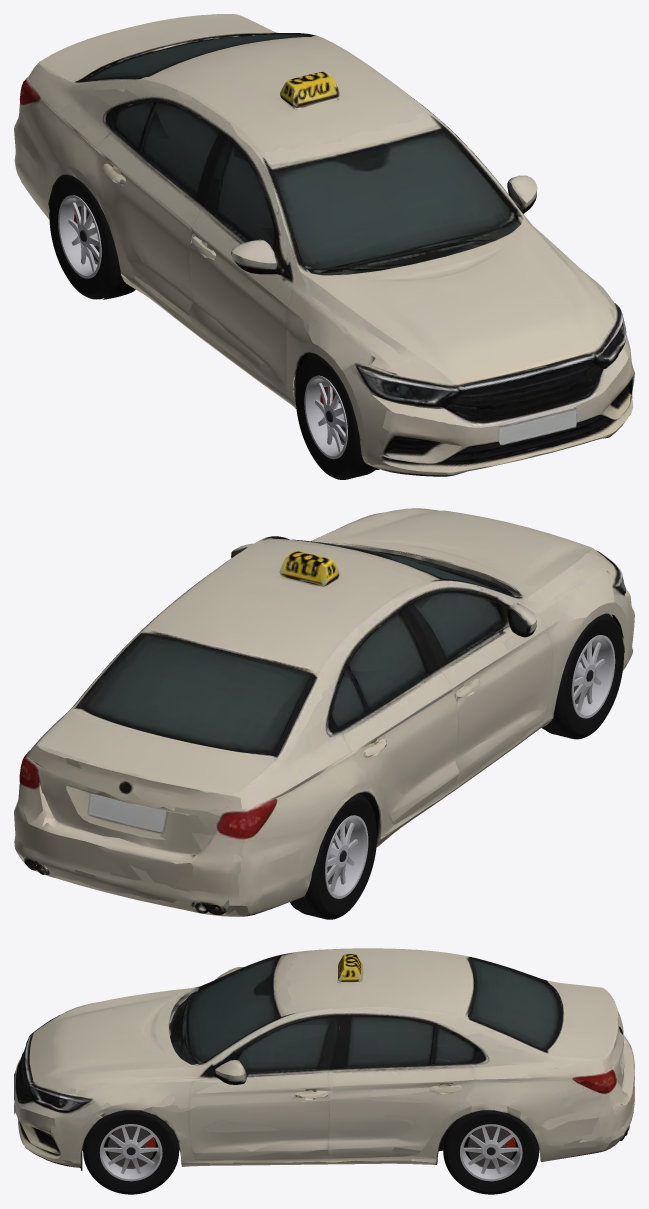
File: taxi.glb
The picture shows the model from 3 angles, top to bottom: view 1: azimuth 30°, elevation 25°; view 2: azimuth 150°, elevation 25°; view 3: azimuth 270°, elevation 25°; orthographic projection. The views are drawn at different scales.
Visible parts, largest first — view 1: karosserie, rad_hr, rad_vr; view 2: karosserie, rad_vr, rad_hr; view 3: karosserie, rad_hl, rad_vl.
Part boxes in pixels (x1,y1,x2,y2): karosserie: (14,14,634,476); rad_hr: (49,175,119,299); rad_vr: (295,353,375,479); karosserie: (14,508,634,916); rad_vr: (542,613,623,739); rad_hr: (290,793,376,919); karosserie: (14,948,634,1170); rad_hl: (443,1110,539,1194); rad_vl: (83,1110,179,1194).
Bounding box in the file's own units: 1.97 × 1.61 × 4.8.
3 materials, 1 textured.
